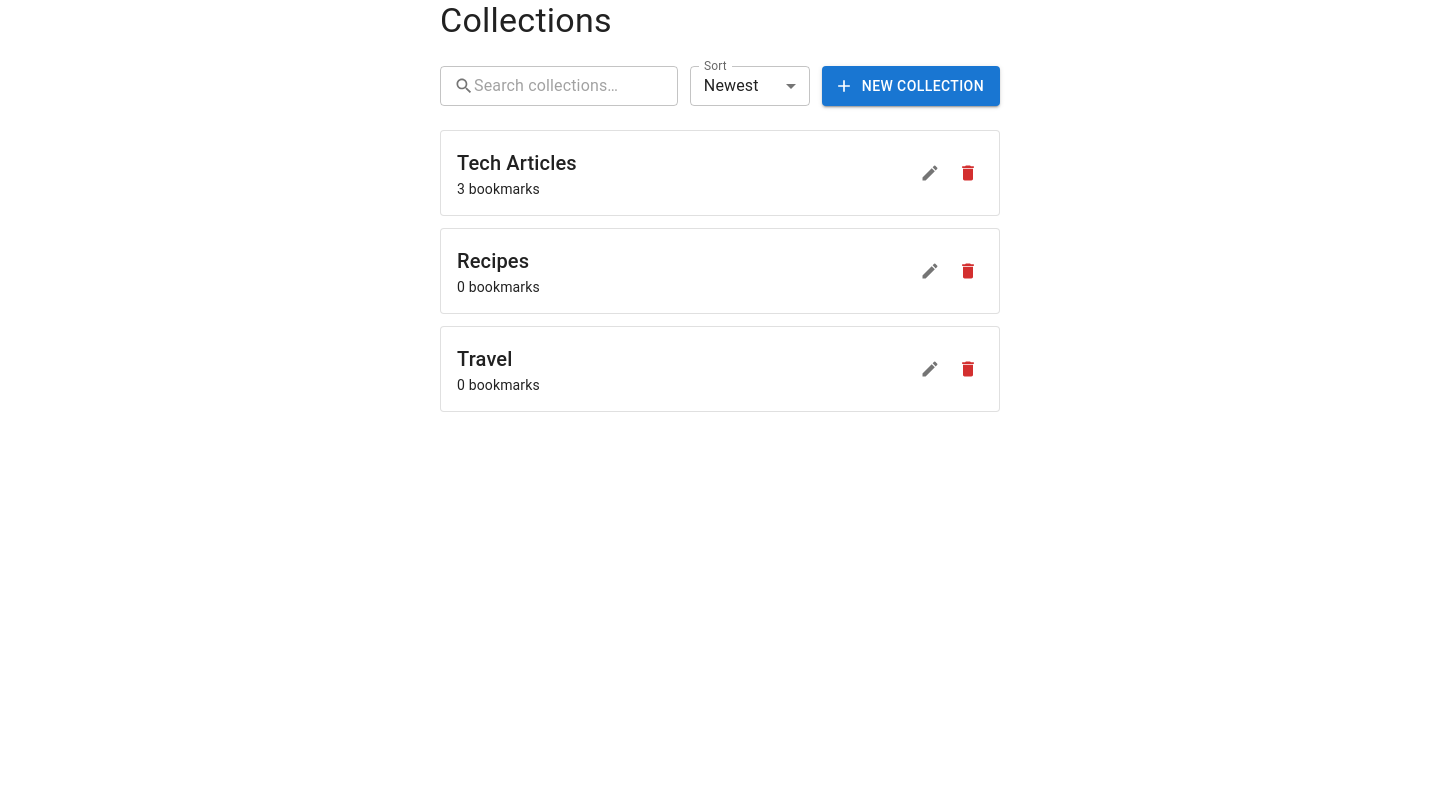
CollectionsPage › opens delete confirmation dialog on delete icon click
Check: the heading "Tech Articles" is shown, box x1=457 y1=147 x2=577 y2=179
Click the 1st button named "Delete collection".
click(968, 173)  # box x1=953 y1=158 x2=983 y2=188
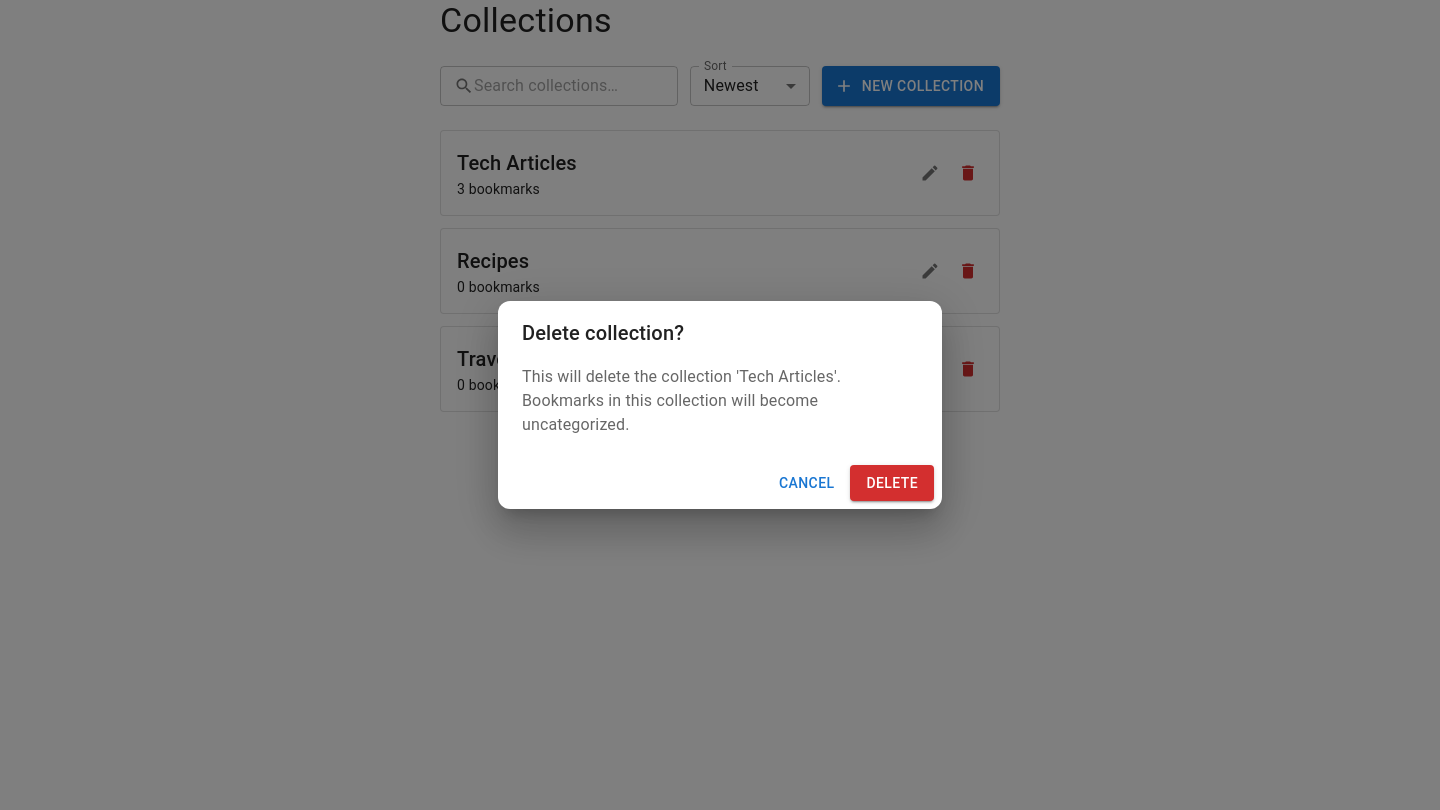
Check: the heading "Delete collection?" is shown, box x1=522 y1=321 x2=684 y2=345
Check: the text "This will delete the collection 'Tech Articles'. Bookmarks in this collection will become uncategorized." is shown, box x1=522 y1=367 x2=841 y2=434
